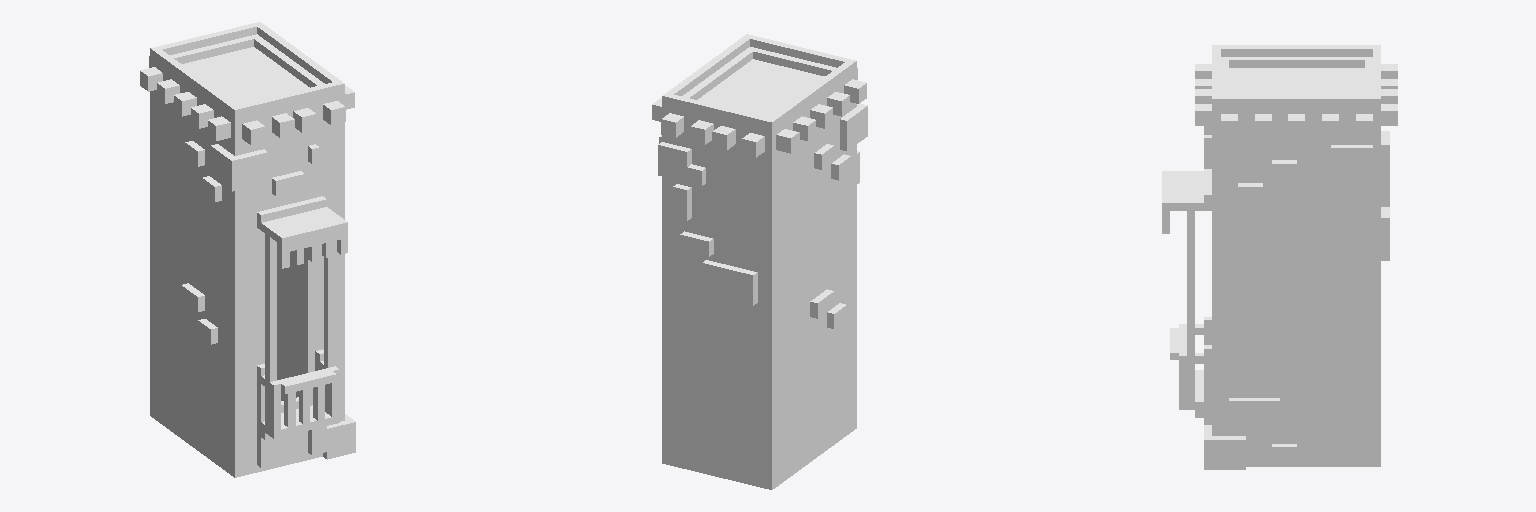
The model's file is TinyBuilding01.obj.
3 renders of one model, left to right at view 1: azimuth 30°, elevation 25°; view 2: azimuth 150°, elevation 25°; view 3: azimuth 270°, elevation 25°, orthographic.
Parts seen in each view (by area): view 1: SmallBuilding05; view 2: SmallBuilding05; view 3: SmallBuilding05.
Part boxes in pixels (x1,y1,x2,y2): SmallBuilding05: (140,22,355,477); SmallBuilding05: (652,34,867,489); SmallBuilding05: (1162,45,1397,469).
Size of the model in its own units: 1.9 by 4.8 by 2.8.